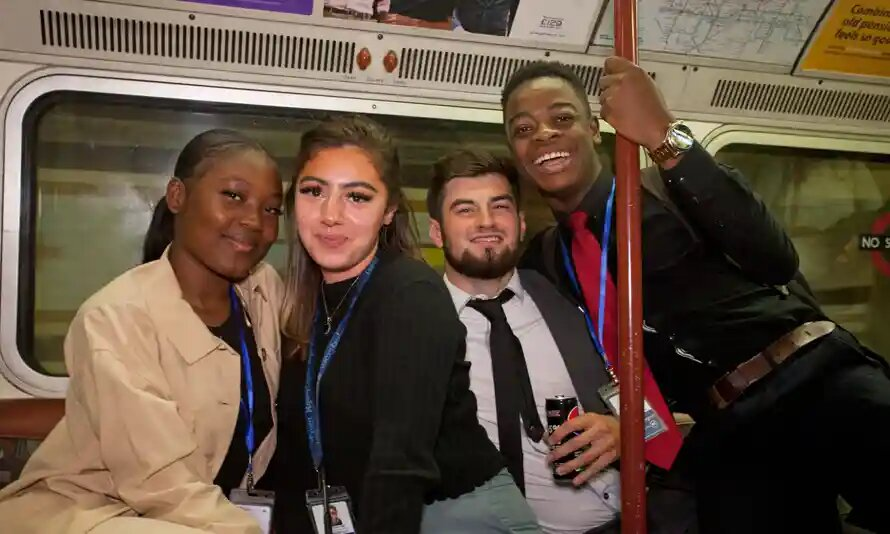without_mask: (201, 158, 281, 278), (292, 163, 378, 266), (505, 97, 592, 183), (446, 185, 518, 275)
